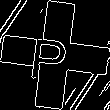P_N: (33, 27, 77, 83)
